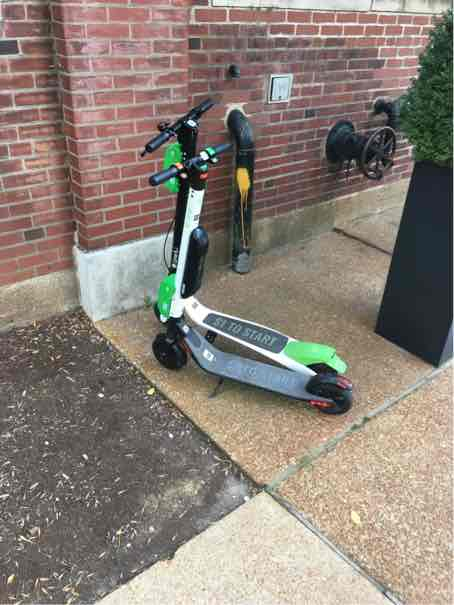scooter: (134, 100, 357, 416)
